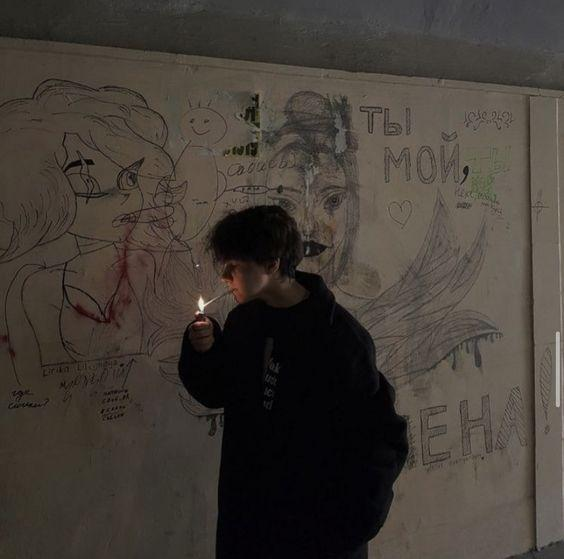cigarette: (201, 289, 234, 308)
